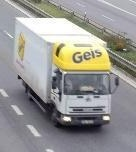truck: (10, 13, 119, 132)
